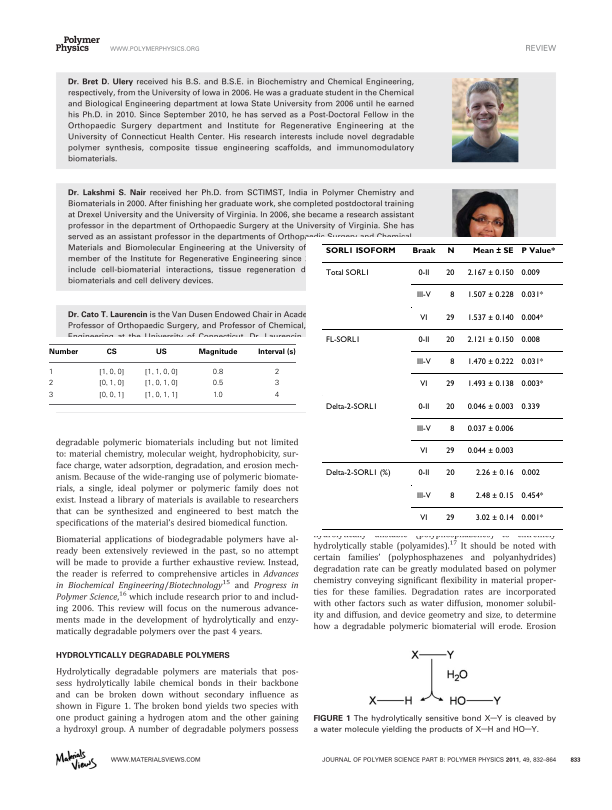borderless: (321, 242, 563, 529), (48, 342, 296, 404)
cell: (324, 469, 391, 479), (324, 402, 378, 412), (324, 247, 396, 254), (466, 291, 514, 301), (466, 313, 514, 323), (466, 335, 514, 345), (466, 357, 514, 367), (466, 380, 514, 390), (466, 402, 514, 412), (466, 424, 514, 434), (466, 269, 514, 278), (466, 447, 514, 456), (324, 269, 370, 278), (474, 469, 514, 479), (474, 491, 514, 501), (474, 513, 514, 523), (324, 335, 361, 345), (197, 348, 238, 357), (257, 348, 296, 357), (143, 367, 178, 376), (143, 390, 178, 399), (471, 247, 514, 254), (47, 348, 79, 357), (143, 379, 178, 387), (520, 247, 555, 254), (98, 367, 125, 376), (98, 390, 125, 399), (520, 291, 544, 301), (520, 313, 544, 323), (520, 357, 544, 367), (520, 380, 544, 390), (520, 491, 544, 501), (520, 513, 544, 523), (98, 379, 125, 387), (520, 335, 540, 345), (520, 402, 540, 412), (520, 469, 540, 479), (520, 269, 540, 278), (411, 247, 436, 254), (415, 291, 431, 301), (415, 357, 431, 367), (415, 424, 431, 434), (415, 491, 431, 501), (417, 335, 430, 345), (417, 402, 430, 412), (417, 469, 430, 479), (417, 269, 430, 278), (154, 348, 167, 357), (105, 348, 117, 357), (211, 367, 224, 375), (445, 313, 455, 323), (445, 335, 455, 345), (445, 380, 455, 390), (445, 402, 455, 412), (445, 469, 455, 479), (445, 513, 455, 523), (211, 379, 224, 386), (445, 269, 455, 278), (419, 313, 428, 323), (419, 380, 428, 390), (445, 447, 455, 456), (419, 513, 428, 523), (212, 390, 223, 398), (419, 447, 428, 456), (446, 247, 455, 254), (449, 291, 455, 301), (449, 357, 455, 367), (449, 424, 455, 434), (449, 491, 455, 501), (47, 367, 54, 375), (273, 367, 279, 375), (48, 390, 54, 398), (273, 390, 279, 398), (48, 379, 54, 386), (273, 379, 279, 386)
